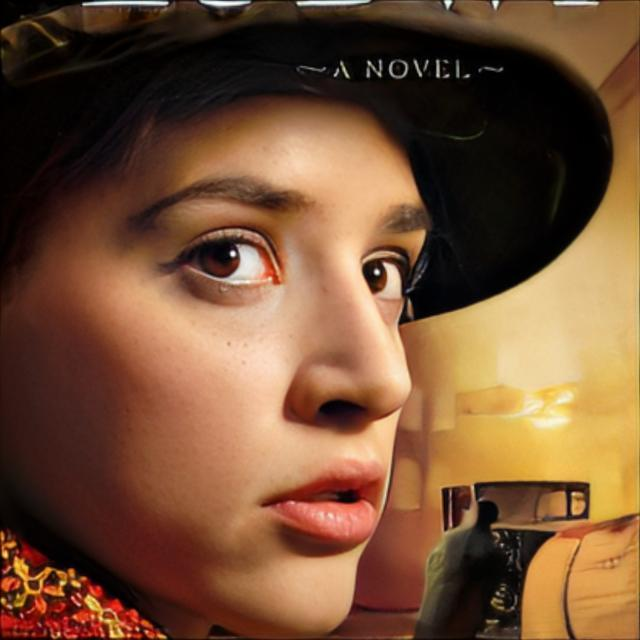surprise: (0, 90, 434, 640)
